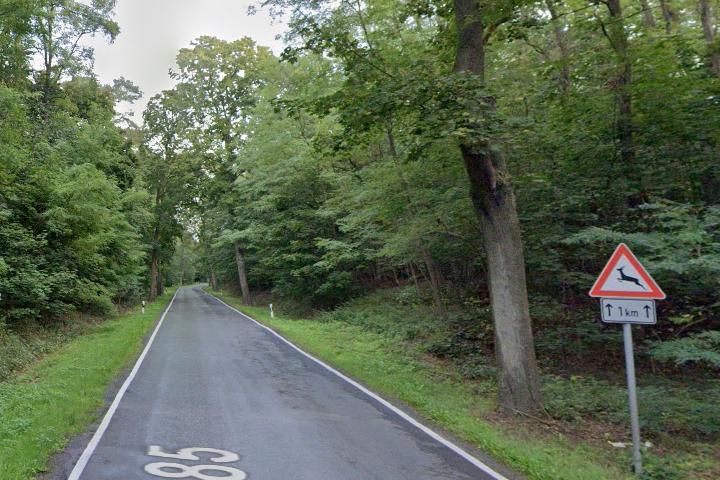traffic_sign: (588, 241, 667, 301)
